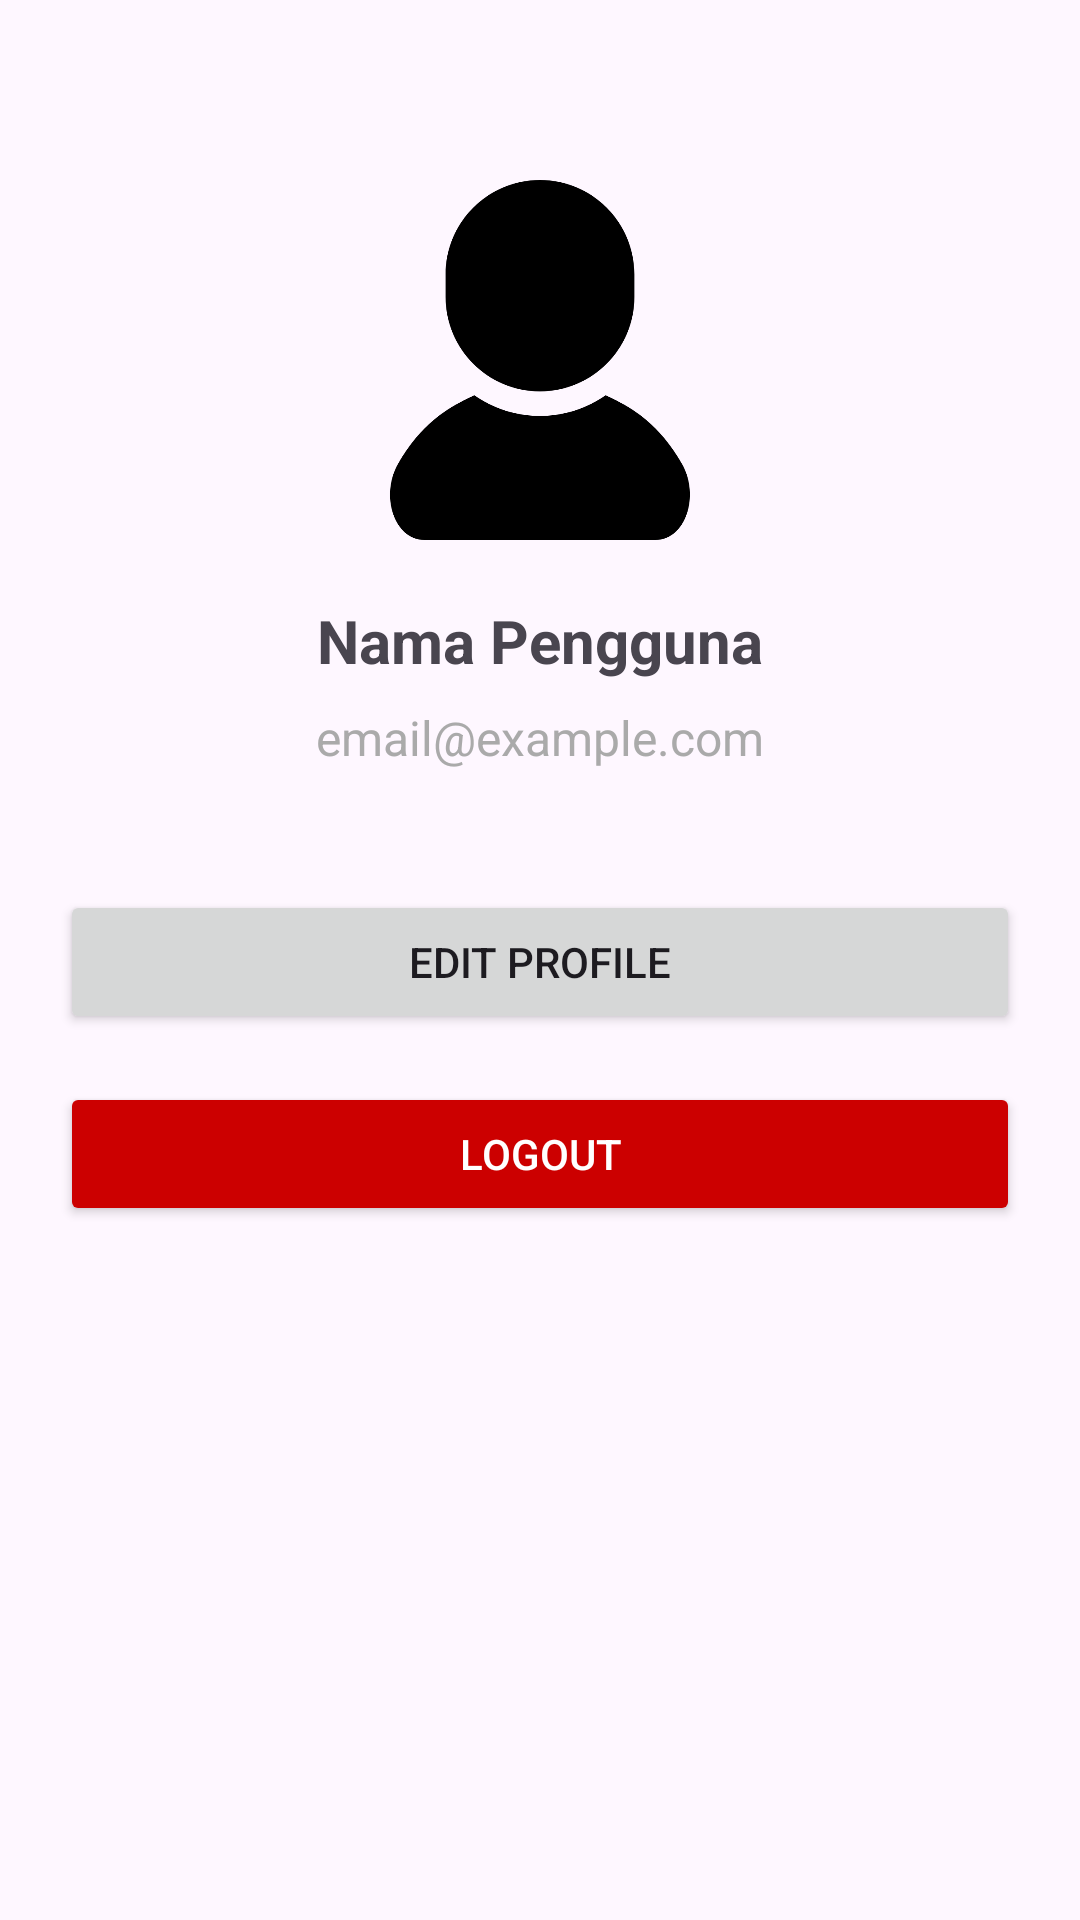

Screen size 1080*1920. Icon name, then its box in pixels as (x1, y1, x2, y2):
profile: (390, 180, 690, 540)
